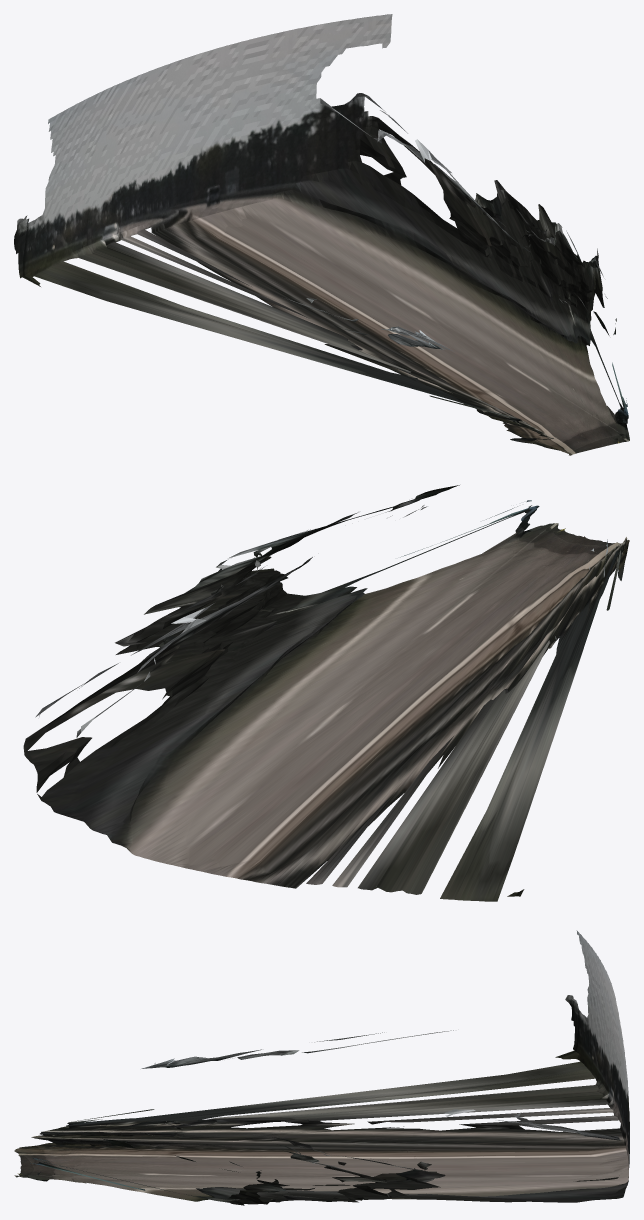
The picture shows the model from 3 angles, top to bottom: view 1: azimuth 30°, elevation 25°; view 2: azimuth 150°, elevation 25°; view 3: azimuth 270°, elevation 25°; orthographic projection. The views are drawn at different scales.
Parts seen in each view (by area): view 1: defaultobject; view 2: defaultobject; view 3: defaultobject.
Part boxes in pixels (x1,y1,x2,y2): defaultobject: [14, 14, 629, 455]; defaultobject: [23, 485, 629, 901]; defaultobject: [14, 930, 629, 1205].
Bounding box in the file's own units: 31.29 × 12.41 × 44.82.
Materials: 1 (1 with a texture image).
